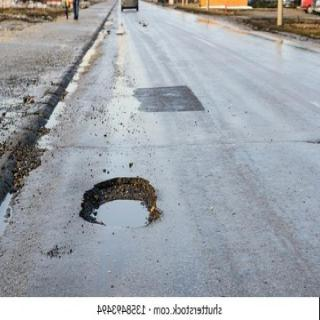pothole: (79, 177, 160, 228)
